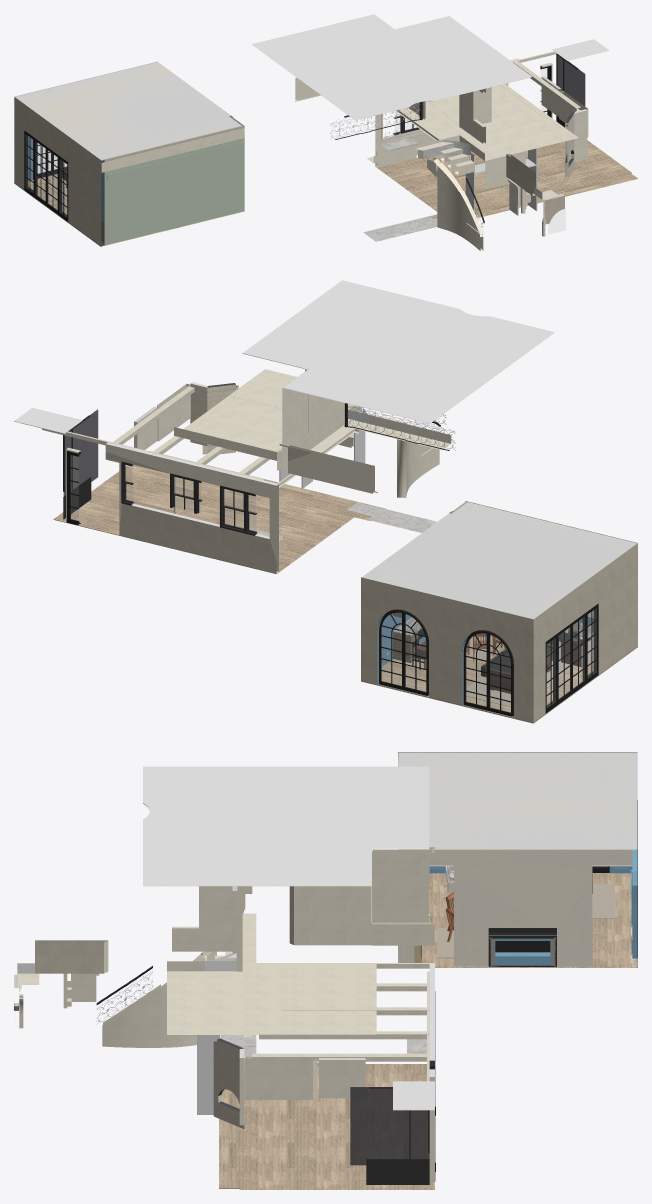
Rendered from game-room-bf5f83edf334.glb.
The picture shows the model from 3 angles, top to bottom: view 1: azimuth 30°, elevation 25°; view 2: azimuth 150°, elevation 25°; view 3: azimuth 270°, elevation 25°; orthographic projection. The views are drawn at different scales.
Visible parts, largest first — view 1: game-room-look-9d91b47435c6fb33, game-room-4a969f5cc1ae3dfe, game-room-30c5953c9ad73e5d, game-room-look-3b0077416469e01b, game-room-look-2575515a05775d9e, game-room-50d54560d247b537, game-room-039192b0560cfac3, game-room-look-8c6a7019fd0063e7, game-room-2575515a05775d9e, game-room-f4800b31bfeb29e4, game-room-look-bfb9fa537cd11d1d, game-room-look-cbd4bf73d9724a66 (+20 smaller); view 2: game-room-look-9d91b47435c6fb33, game-room-4a969f5cc1ae3dfe, game-room-look-3b0077416469e01b, game-room-969b861f9850351e, game-room-look-bfb9fa537cd11d1d, game-room-039192b0560cfac3, game-room-look-2575515a05775d9e, game-room-3b0077416469e01b, game-room-look-245f595ae2832e16, game-room-ebdc05650cf31826, game-room-ca241f91fd698c40, game-room-f4800b31bfeb29e4 (+23 smaller); view 3: game-room-look-9d91b47435c6fb33, game-room-4a969f5cc1ae3dfe, game-room-look-3b0077416469e01b, game-room-3e6709f91b43c3bf, game-room-look-2575515a05775d9e, game-room-50d54560d247b537, game-room-look-69af8f587252f9fa, game-room-look-cbd4bf73d9724a66, game-room-3b0077416469e01b, game-room-look-32b959c9aa406288, game-room-look-8c6a7019fd0063e7, game-room-55ff1dfd7b659ec1 (+22 smaller).
Boxes of the visible parts, box(x1,y1,x2,y2) form: game-room-look-9d91b47435c6fb33: box(251, 14, 531, 120); game-room-4a969f5cc1ae3dfe: box(14, 62, 242, 160); game-room-30c5953c9ad73e5d: box(104, 126, 244, 245); game-room-look-3b0077416469e01b: box(375, 140, 637, 218); game-room-look-2575515a05775d9e: box(367, 84, 578, 163); game-room-50d54560d247b537: box(14, 61, 243, 160); game-room-039192b0560cfac3: box(14, 97, 104, 246); game-room-look-8c6a7019fd0063e7: box(427, 157, 483, 250); game-room-2575515a05775d9e: box(101, 128, 244, 172); game-room-f4800b31bfeb29e4: box(24, 130, 68, 221); game-room-look-bfb9fa537cd11d1d: box(375, 58, 518, 167); game-room-look-cbd4bf73d9724a66: box(557, 55, 585, 106); game-room-look-9d91b47435c6fb33: box(242, 280, 554, 423); game-room-4a969f5cc1ae3dfe: box(361, 502, 637, 619); game-room-look-3b0077416469e01b: box(53, 451, 386, 574); game-room-969b861f9850351e: box(361, 578, 529, 721); game-room-look-bfb9fa537cd11d1d: box(105, 442, 278, 573); game-room-039192b0560cfac3: box(529, 544, 637, 722); game-room-look-2575515a05775d9e: box(174, 369, 451, 460); game-room-3b0077416469e01b: box(361, 644, 637, 722); game-room-look-245f595ae2832e16: box(288, 445, 374, 493); game-room-ebdc05650cf31826: box(487, 632, 512, 716); game-room-ca241f91fd698c40: box(403, 612, 427, 695); game-room-f4800b31bfeb29e4: box(545, 603, 598, 713); game-room-look-9d91b47435c6fb33: box(143, 766, 429, 886); game-room-4a969f5cc1ae3dfe: box(398, 752, 637, 849); game-room-look-3b0077416469e01b: box(219, 1056, 434, 1189); game-room-3e6709f91b43c3bf: box(398, 849, 632, 966); game-room-look-2575515a05775d9e: box(167, 913, 376, 1034); game-room-50d54560d247b537: box(398, 752, 637, 849); game-room-look-69af8f587252f9fa: box(289, 886, 371, 945); game-room-look-cbd4bf73d9724a66: box(350, 1087, 429, 1165); game-room-3b0077416469e01b: box(398, 873, 637, 967); game-room-look-32b959c9aa406288: box(372, 849, 429, 922); game-room-look-8c6a7019fd0063e7: box(102, 951, 216, 1047); game-room-55ff1dfd7b659ec1: box(398, 849, 631, 967).
Bounding box in the file's own units: 21.68 × 6.36 × 16.78.
69 materials, 17 textured.
